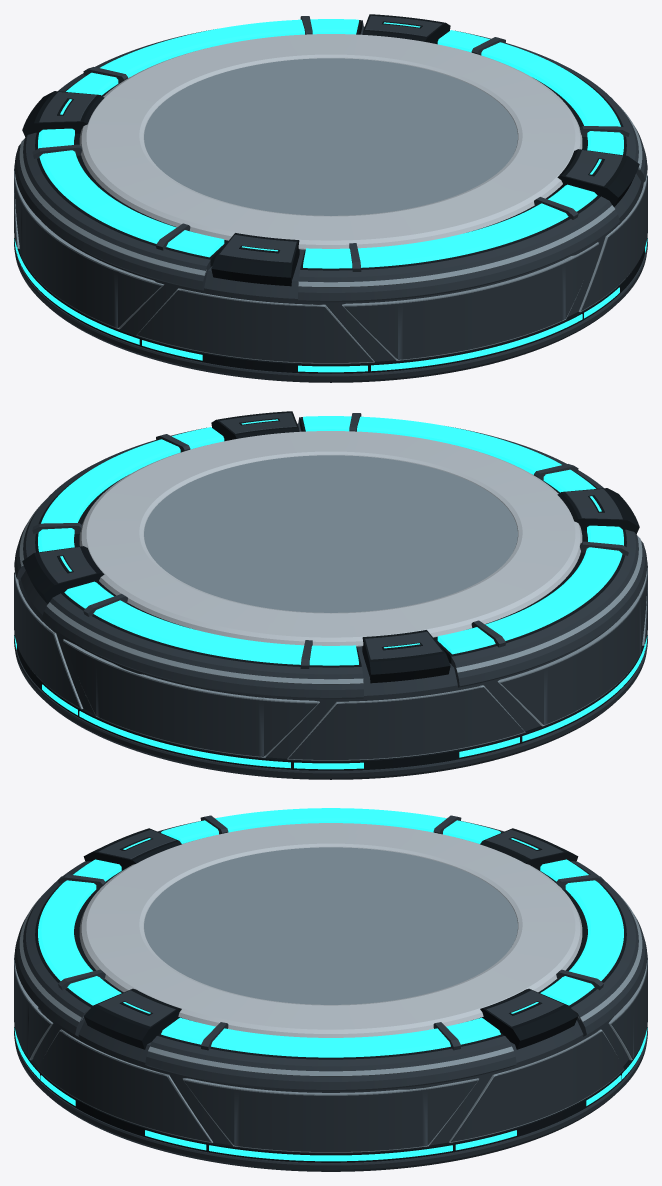
The model's file is Compact.fbx.
3 renders of one model, top to bottom at view 1: azimuth 30°, elevation 25°; view 2: azimuth 150°, elevation 25°; view 3: azimuth 270°, elevation 25°, orthographic.
Parts seen in each view (by area): view 1: SM_Puck_Compact_HighDetail; view 2: SM_Puck_Compact_HighDetail; view 3: SM_Puck_Compact_HighDetail.
Boxes of the visible parts, x1=… form: SM_Puck_Compact_HighDetail: x1=14, y1=14, x2=647, y2=382; SM_Puck_Compact_HighDetail: x1=14, y1=411, x2=647, y2=779; SM_Puck_Compact_HighDetail: x1=14, y1=808, x2=647, y2=1171.
Bounding box in the file's own units: 71.9 × 71.9 × 14.7.
